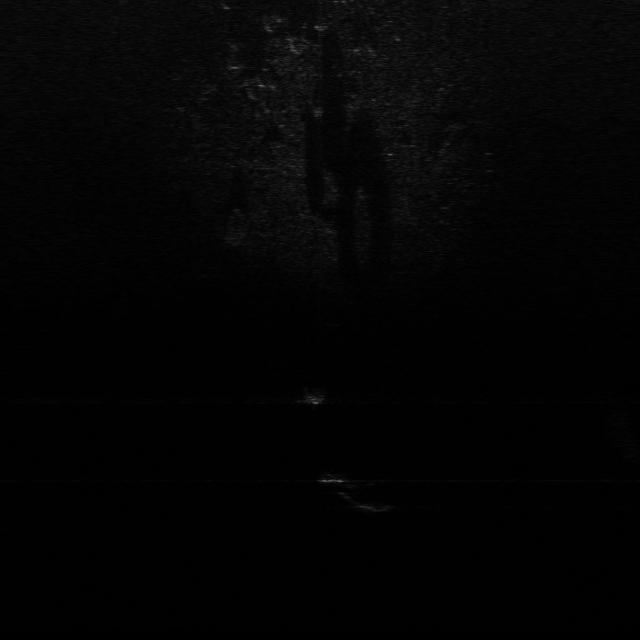cube: (317, 468, 354, 488)
square cage: (297, 384, 331, 406)
tyre: (334, 476, 397, 513)
